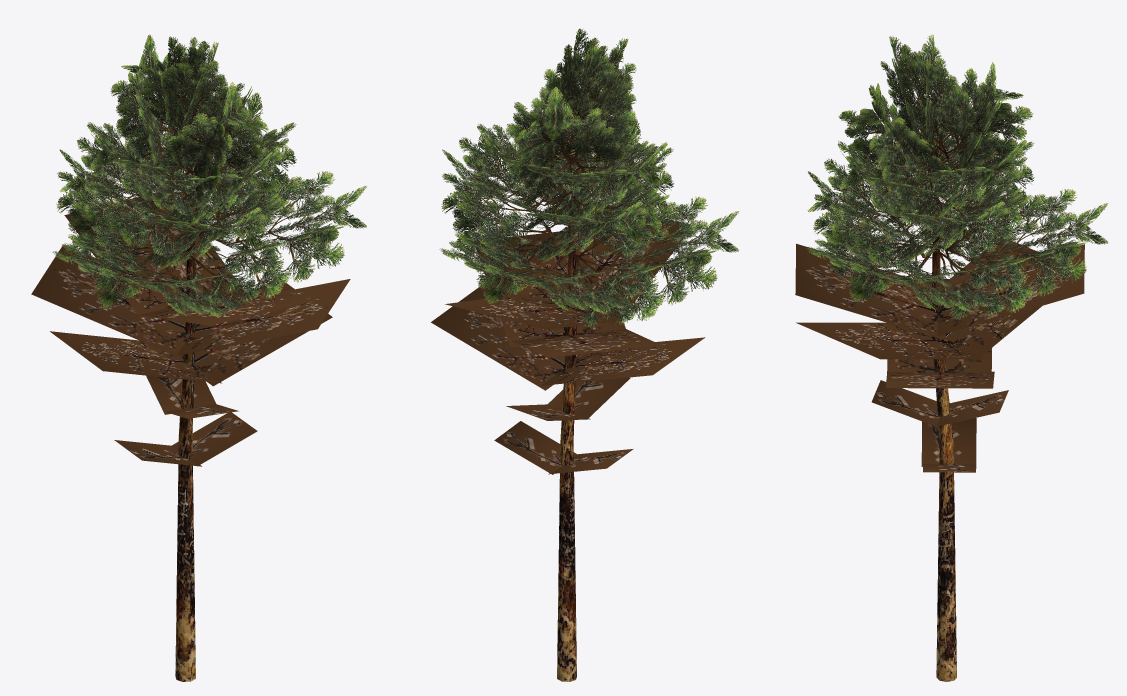
File: pine.glb
3 renders of one model, left to right at view 1: azimuth 30°, elevation 25°; view 2: azimuth 150°, elevation 25°; view 3: azimuth 270°, elevation 25°, orthographic. The views are drawn at different scales.
Visible parts, largest first — view 1: pine_maritime_1_needles, pine_maritime_1; view 2: pine_maritime_1_needles, pine_maritime_1; view 3: pine_maritime_1_needles, pine_maritime_1.
Part boxes in pixels (left/top/right/bottom): pine_maritime_1_needles: left=52, top=34, right=366, bottom=317; pine_maritime_1: left=31, top=193, right=350, bottom=681; pine_maritime_1_needles: left=439, top=28, right=739, bottom=327; pine_maritime_1: left=431, top=203, right=705, bottom=681; pine_maritime_1_needles: left=806, top=34, right=1108, bottom=319; pine_maritime_1: left=795, top=207, right=1084, bottom=681.
Bounding box in the file's own units: 8.71 × 15.61 × 7.5.
2 materials, 2 textured.
